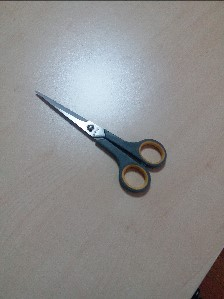scissors: (32, 95, 171, 195)
